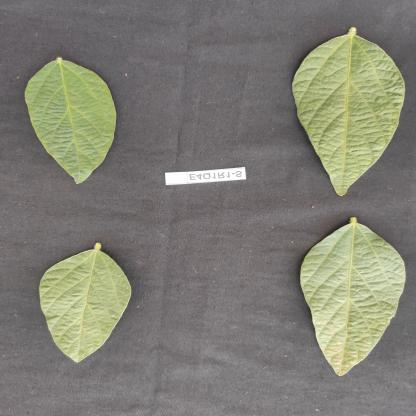label: (162, 164, 256, 192)
leaflets: (285, 24, 411, 198), (292, 213, 412, 381), (22, 54, 126, 192), (35, 242, 145, 366)
